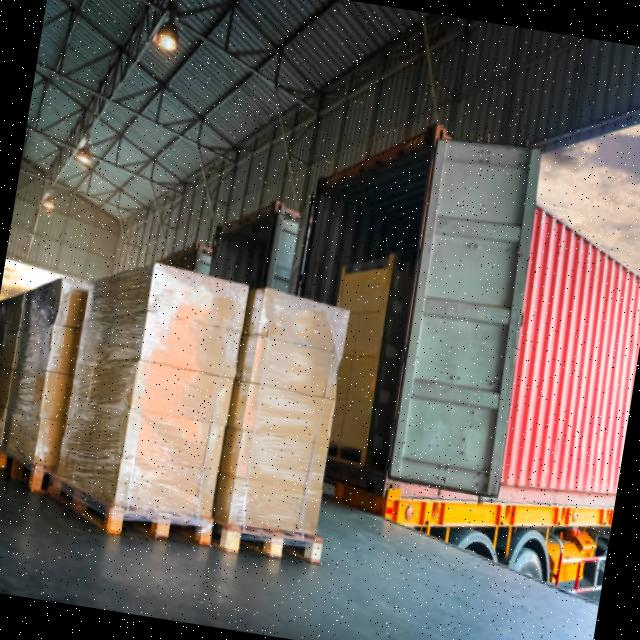Wooden-Pallets: (43, 466, 218, 557), (215, 517, 332, 575), (0, 444, 47, 502)
